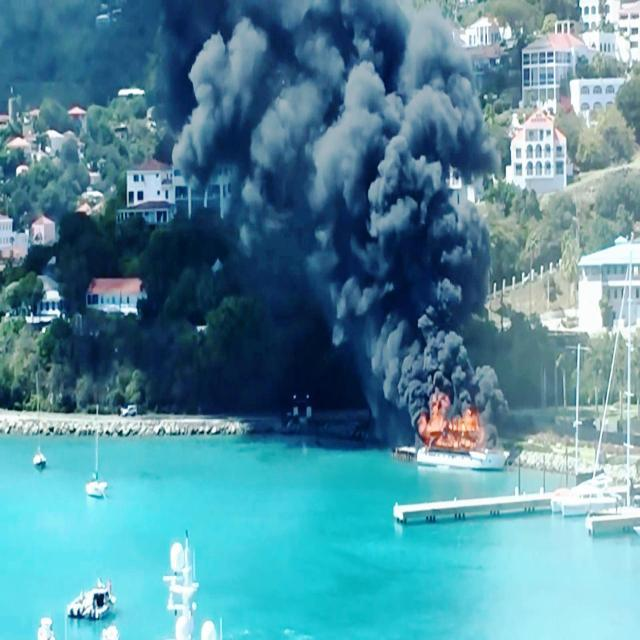Fire: (418, 388, 486, 458)
Smoke: (158, 0, 501, 386)
